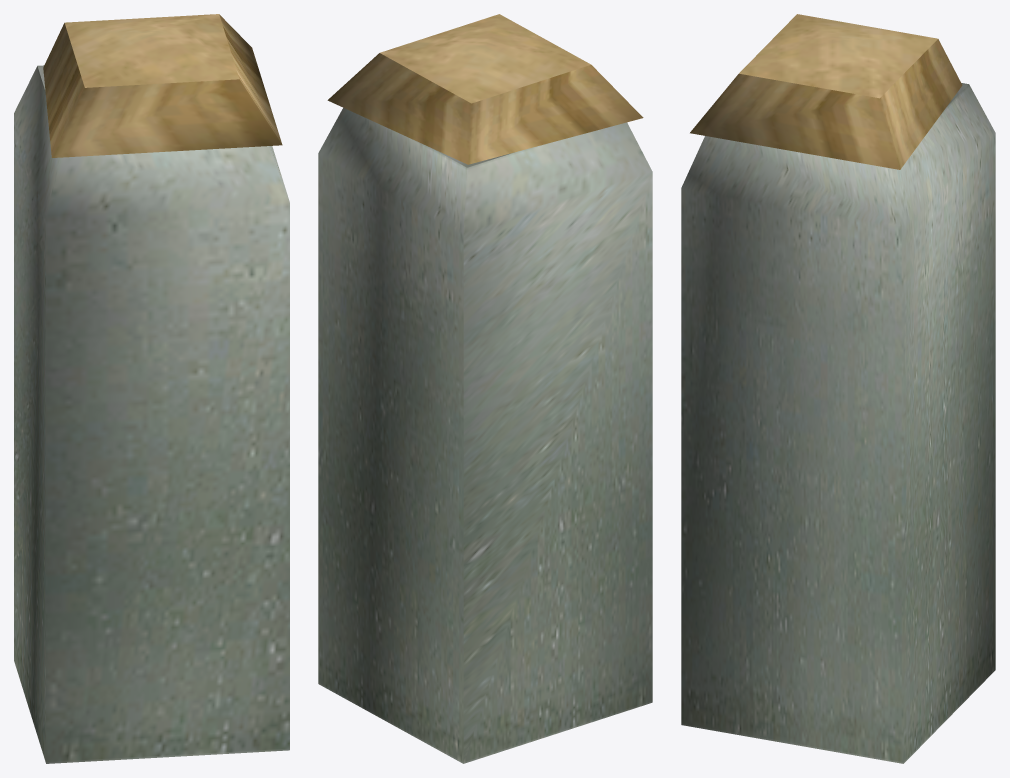
The model's file is edb_con_tato_jar_spice_s03_l2.fbx.
3 views of the same model, side by side, from view 1: azimuth 30°, elevation 25°; view 2: azimuth 150°, elevation 25°; view 3: azimuth 270°, elevation 25° (orthographic). The views are drawn at different scales.
Parts seen in each view (by area): view 1: mesh_node; view 2: mesh_node; view 3: mesh_node.
Part boxes in pixels (bbox=[...]): mesh_node: bbox=[14, 14, 289, 763]; mesh_node: bbox=[318, 14, 652, 763]; mesh_node: bbox=[681, 14, 995, 763].
Bounding box in the file's own units: 0.126 × 0.2897 × 0.126.
3 materials, 3 textured.
